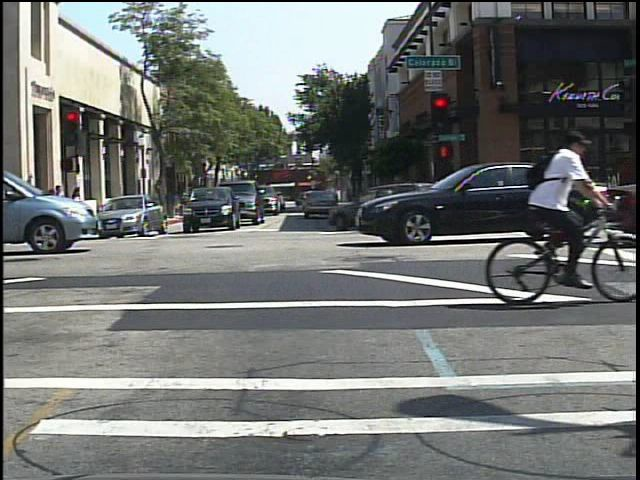person: (509, 121, 603, 299)
